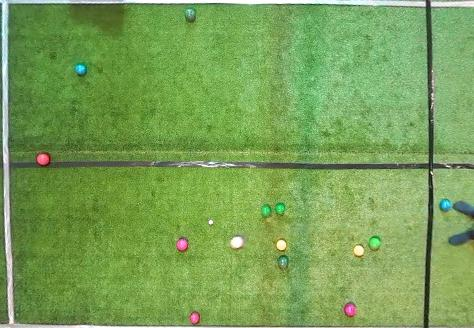blue: (439, 199, 451, 212), (74, 63, 86, 76)
green: (184, 8, 196, 21), (277, 256, 289, 268), (369, 237, 380, 250), (261, 205, 271, 217), (275, 203, 285, 215)
red: (230, 236, 244, 249), (343, 303, 355, 317), (36, 153, 49, 165), (176, 239, 188, 251), (190, 312, 199, 324)
vline: (423, 1, 474, 327), (0, 1, 19, 327)
white: (208, 220, 213, 225)
yellow: (276, 239, 287, 251), (354, 245, 364, 257)
